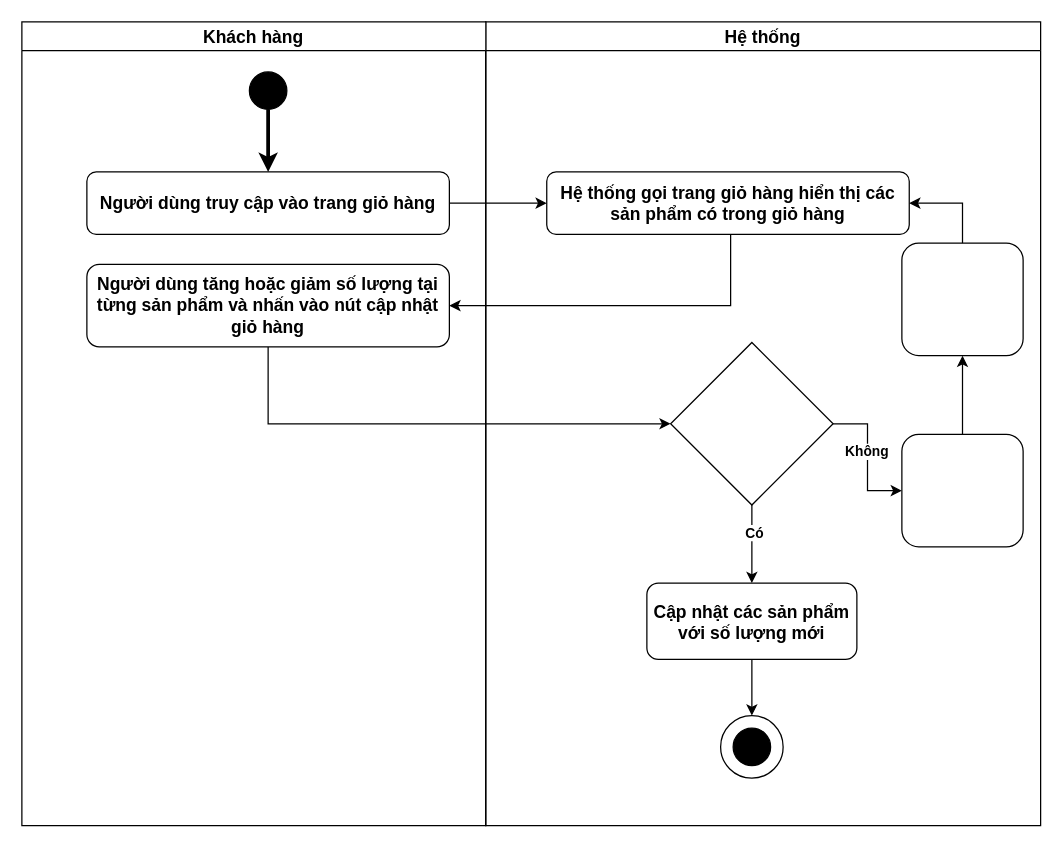
Some shapes in this 1063 by 848 pixel diagram are drawn without their labels. Each missing label, with the box of its shape:
hệ thống in ra thông báo "Cập nhật không thành công": (901, 433, 1023, 547)
Thông tin cập nhật có hợp lệ hay không?: (669, 341, 833, 505)
trả số lượng sản phẩm về ban đầu: (901, 242, 1023, 356)
